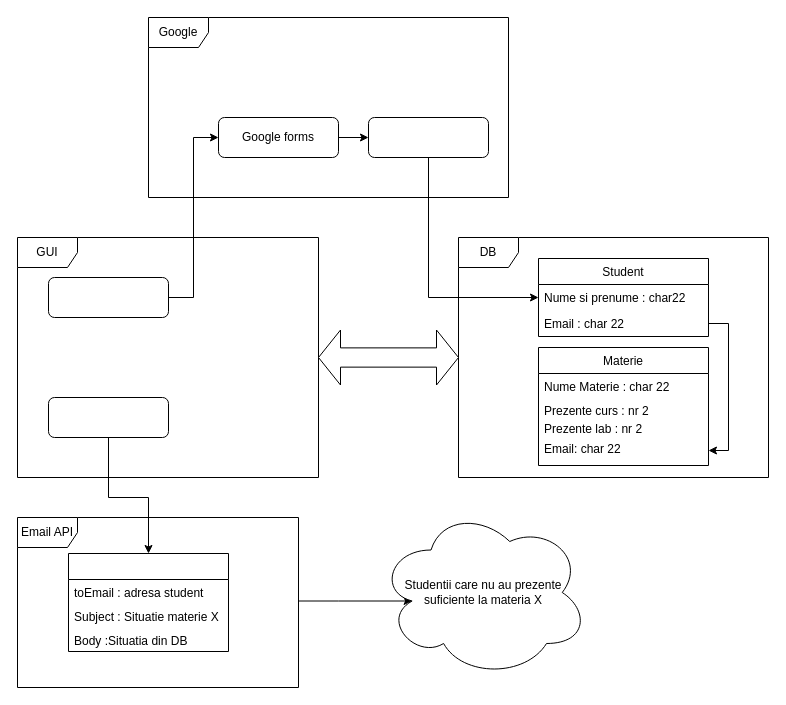
This 786x705 diagram has some shape labels left out. The box of each missing label's shape, as (x1, y1, x2, y2) in pixels:
Email via gmail api: (68, 552, 228, 652)
Excel spreadsheet: (368, 116, 488, 158)
QR Code: (48, 276, 168, 318)
Send Email: (48, 396, 168, 438)
